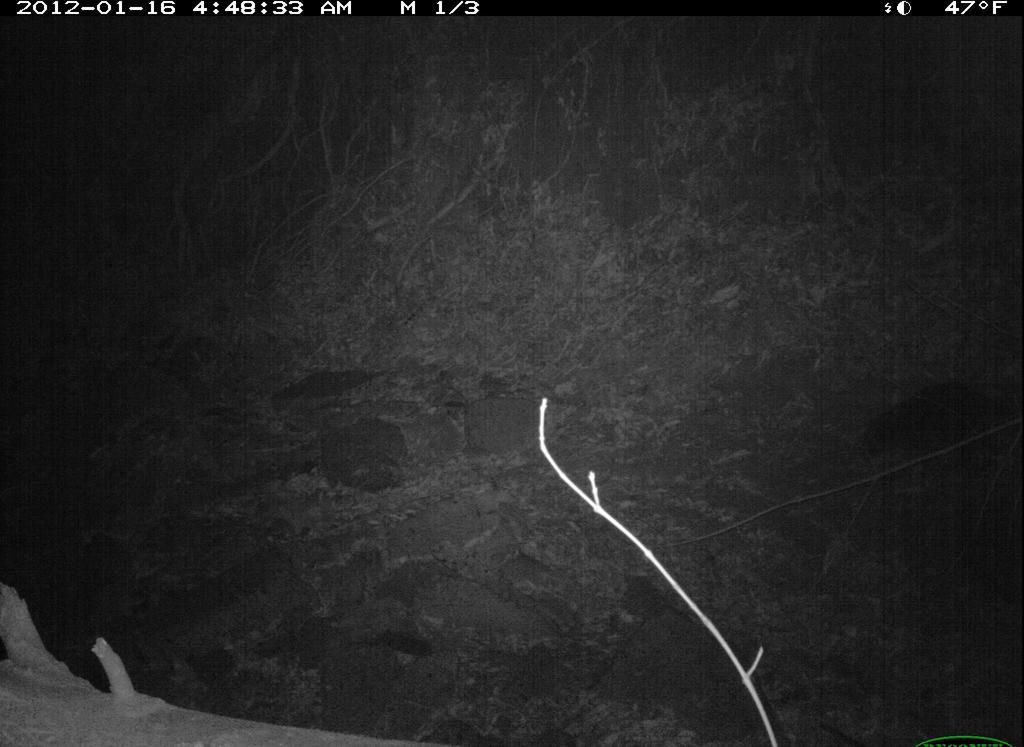raccoon: (857, 373, 1007, 486)
